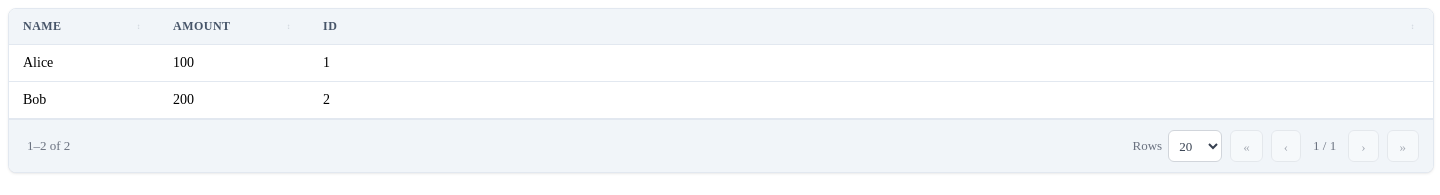
Test case: Inline cell editing › activating edit mode › uses a number input for number columns
Double-click the cell "100": (234,63) [159,44,309,82]
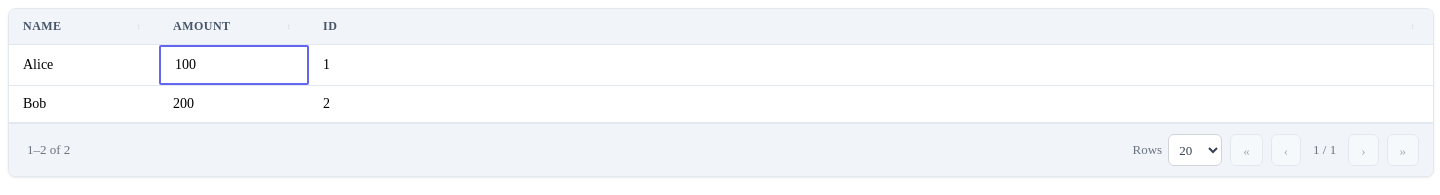
expect the number field named "Edit Amount" holds "100": met, box [159,45,309,85]
